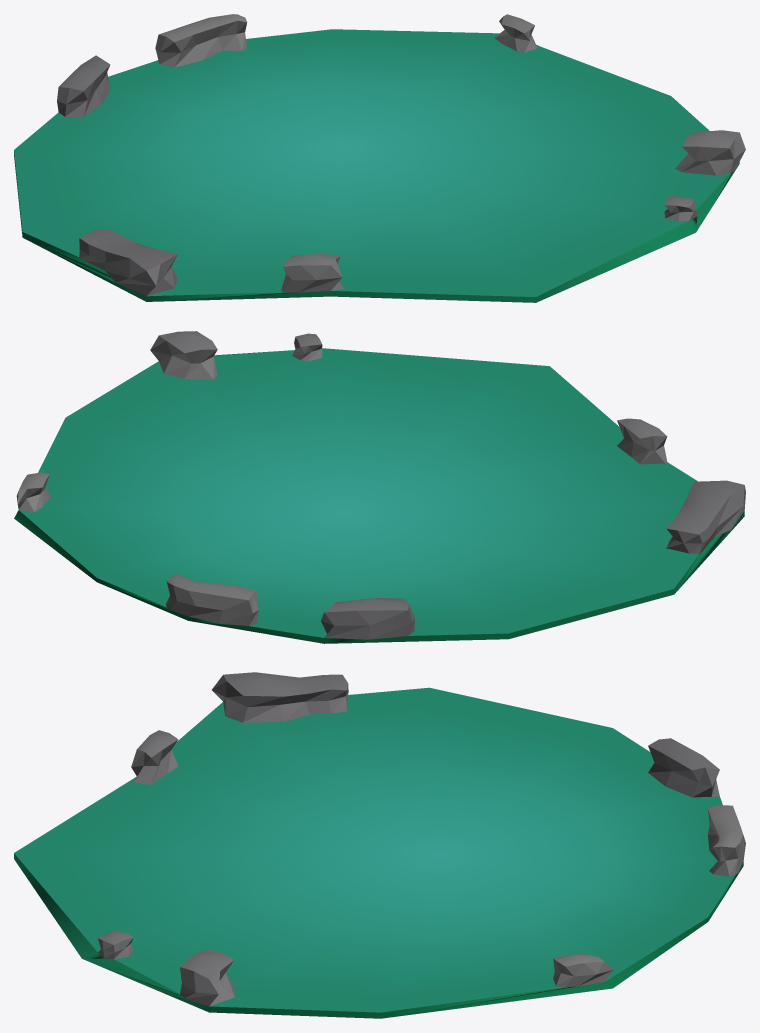
The model's file is lake.FBX.
3 renders of one model, top to bottom at view 1: azimuth 30°, elevation 25°; view 2: azimuth 150°, elevation 25°; view 3: azimuth 270°, elevation 25°, orthographic. The views are drawn at different scales.
Parts seen in each view (by area): view 1: Cylinder003; view 2: Cylinder003; view 3: Cylinder003.
Boxes of the visible parts, bbox=[...] form: Cylinder003: bbox=[14, 14, 745, 302]; Cylinder003: bbox=[14, 331, 745, 643]; Cylinder003: bbox=[14, 672, 745, 1018].
Bounding box in the file's own units: 293 × 16.81 × 279.
